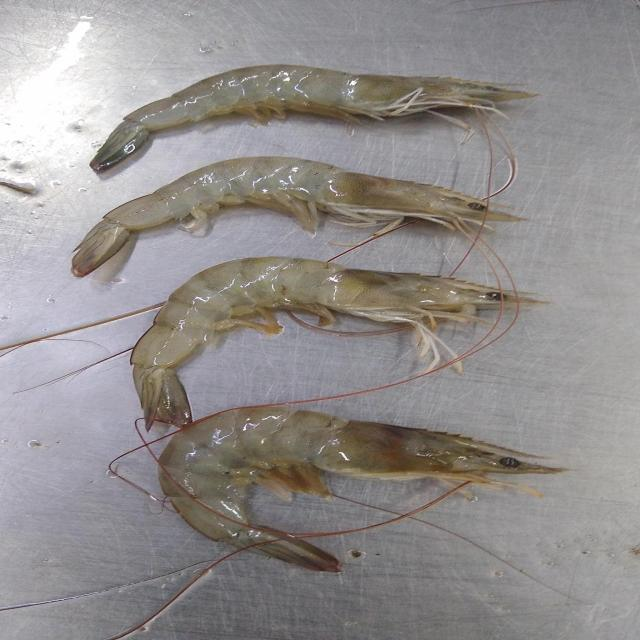shrimp: (131, 256, 538, 426), (160, 408, 564, 548), (71, 156, 522, 278), (91, 65, 536, 172)
